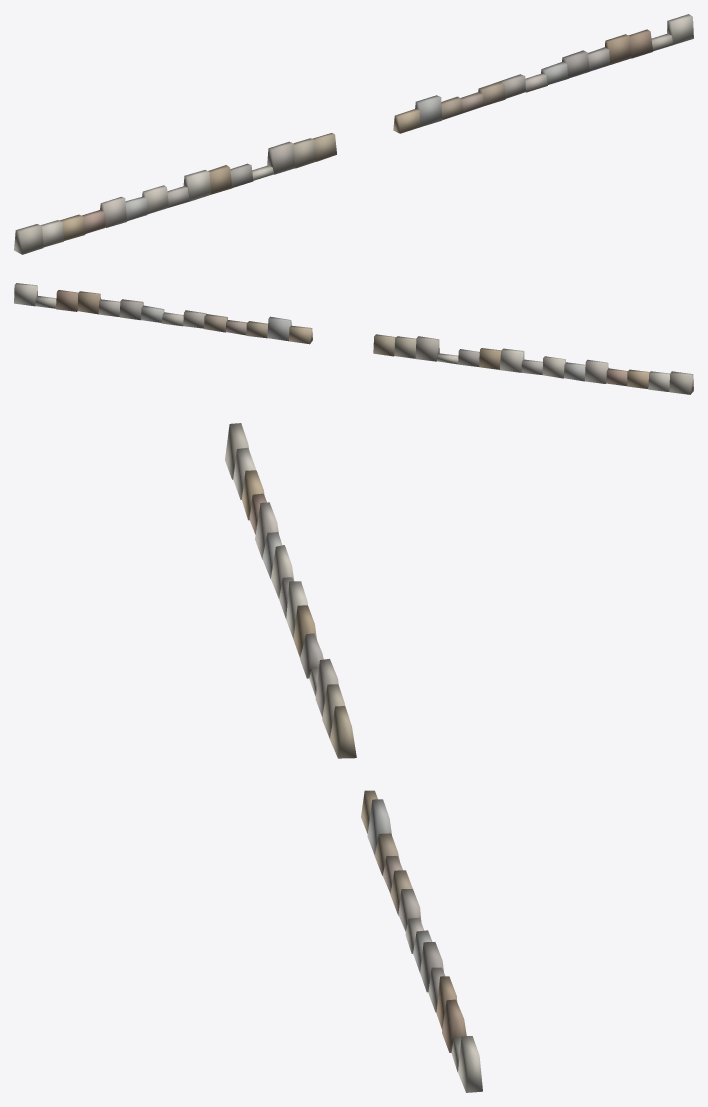
File: farm_16_23_far.glb
The picture shows the model from 3 angles, top to bottom: view 1: azimuth 30°, elevation 25°; view 2: azimuth 150°, elevation 25°; view 3: azimuth 270°, elevation 25°; orthographic projection. The views are drawn at different scales.
Visible parts, largest first — view 1: geometry_0; view 2: geometry_0; view 3: geometry_0.
Part boxes in pixels (bbox=[...]): geometry_0: bbox=[14, 14, 693, 254]; geometry_0: bbox=[14, 283, 693, 394]; geometry_0: bbox=[225, 423, 482, 1092].
Bounding box in the file's own units: 50.24 × 2.59 × 9.08.
